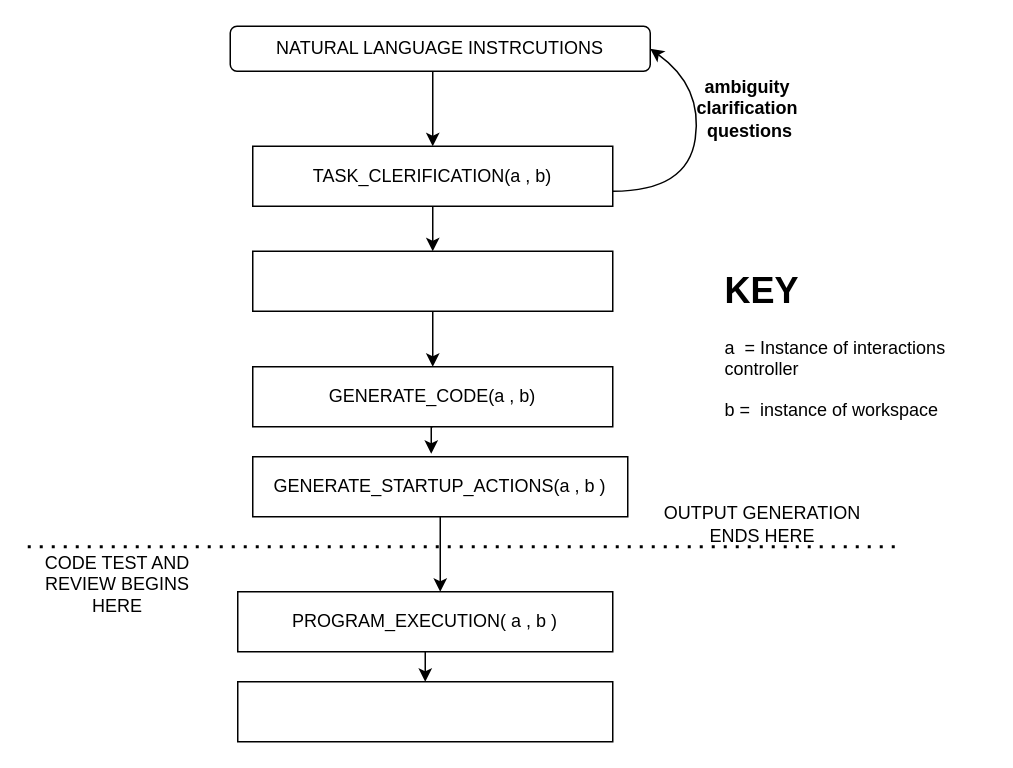
Some shapes in this 1013 by 768 pixel diagram are drawn without their labels. The centre of each missing label's shape, as x and y in pixels:
GENERATE_SPECIFICATION(a , b): (x=432, y=280)
HUMAN_REVIEW( a , b ): (x=424, y=711)
